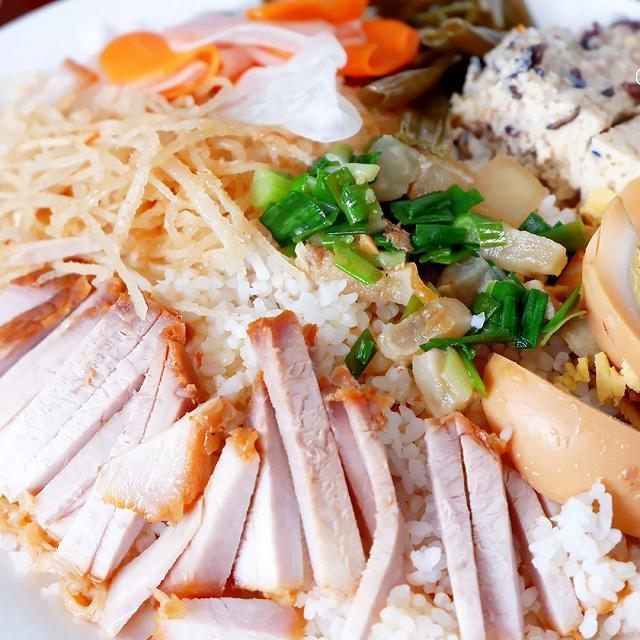bi: (0, 55, 319, 304)
com: (141, 229, 384, 413), (364, 398, 471, 640), (524, 473, 640, 640)
com suon bi trung: (0, 31, 640, 640)
dua chua: (89, 1, 543, 149)
suon: (61, 305, 409, 640), (0, 253, 214, 587), (420, 411, 629, 640)
trung: (448, 13, 640, 235), (476, 349, 640, 559), (565, 169, 640, 473)
